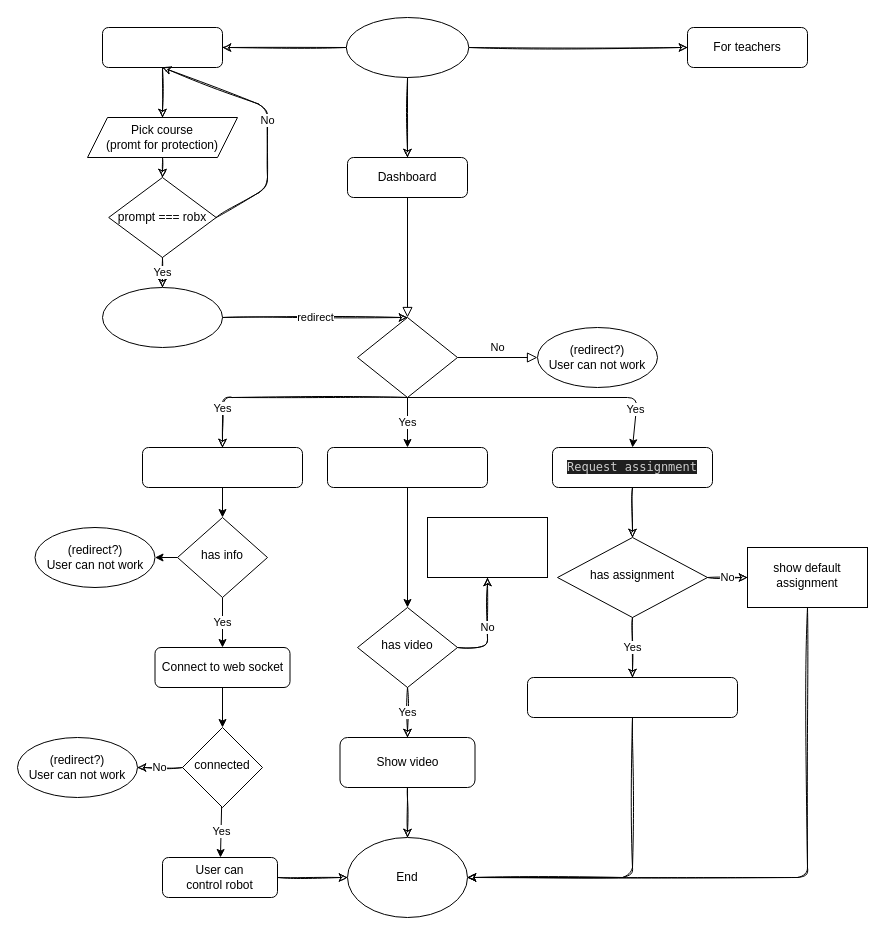
Image size: 885x935. Some labels were removed from this diagram. Here are the shapes that lost their labels. From the top down, the box of each, then its label:
(102, 26, 222, 68): Courses
(345, 16, 469, 78): Start
(102, 286, 222, 348): store domain in localStorage
(356, 316, 458, 398): has domain
(142, 446, 302, 488): Request board info
(326, 446, 488, 488): Request stream
(426, 516, 548, 578): show no signal GIF
(526, 676, 738, 718): User can access assignment in side menu
